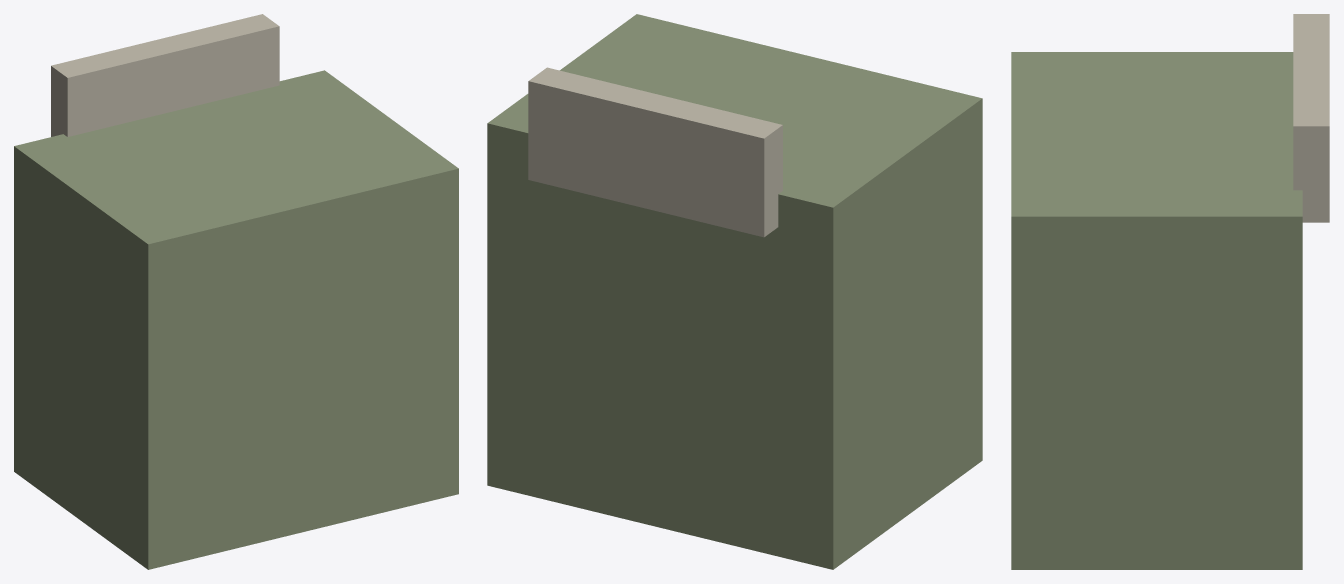
The model's file is iz2_item_spoiled_meal.glb.
The picture shows the model from 3 angles, left to right: view 1: azimuth 30°, elevation 25°; view 2: azimuth 150°, elevation 25°; view 3: azimuth 270°, elevation 25°; orthographic projection. The views are drawn at different scales.
Visible parts, largest first — view 1: body; view 2: body; view 3: body.
Boxes of the visible parts, <box> form: body: <box>14,14,458,569</box>; body: <box>487,14,982,569</box>; body: <box>1011,14,1329,569</box>.
Size of the model in its own units: 0.2197 by 0.26 by 0.1798.
